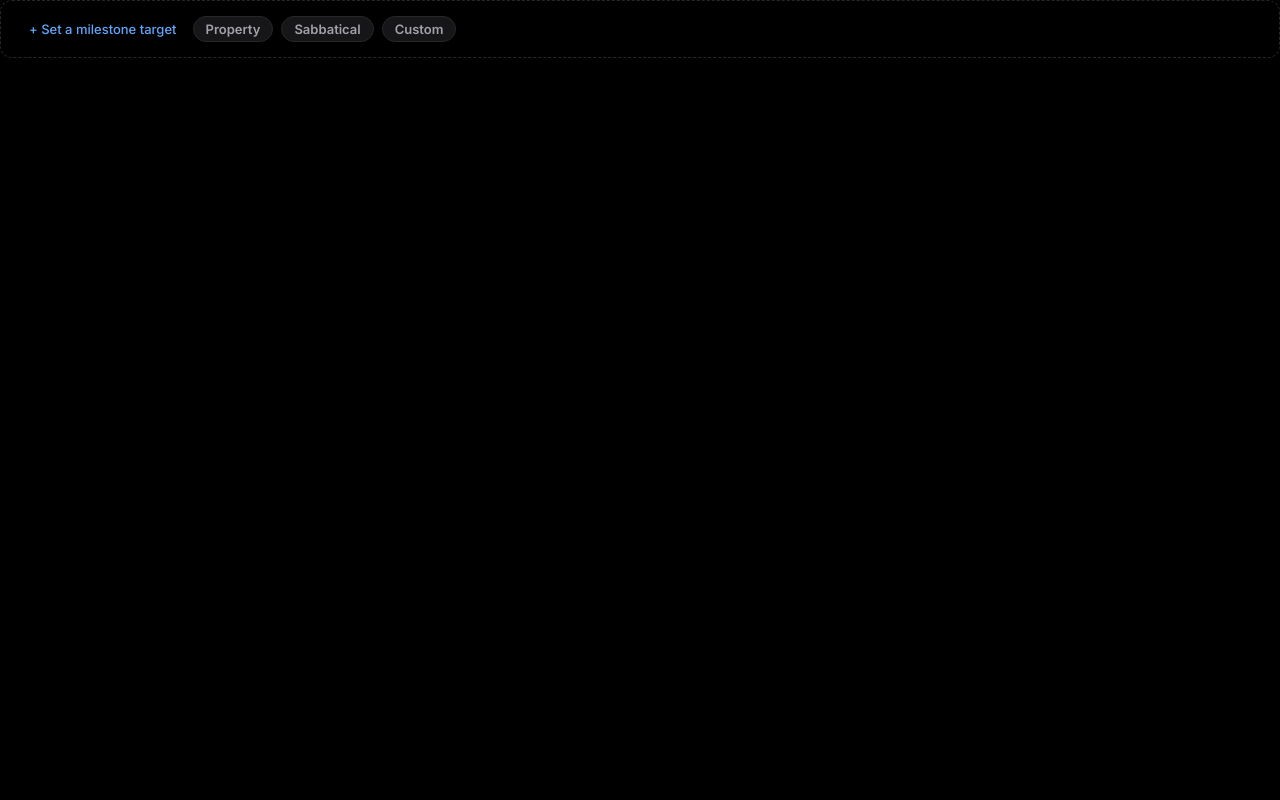
CapitalHorizonCard: no milestone set › shows what is wrong and does not save
The width and height of the screenshot is (1280, 800).
Click the button "Custom": (419, 29) [382,16,456,42]
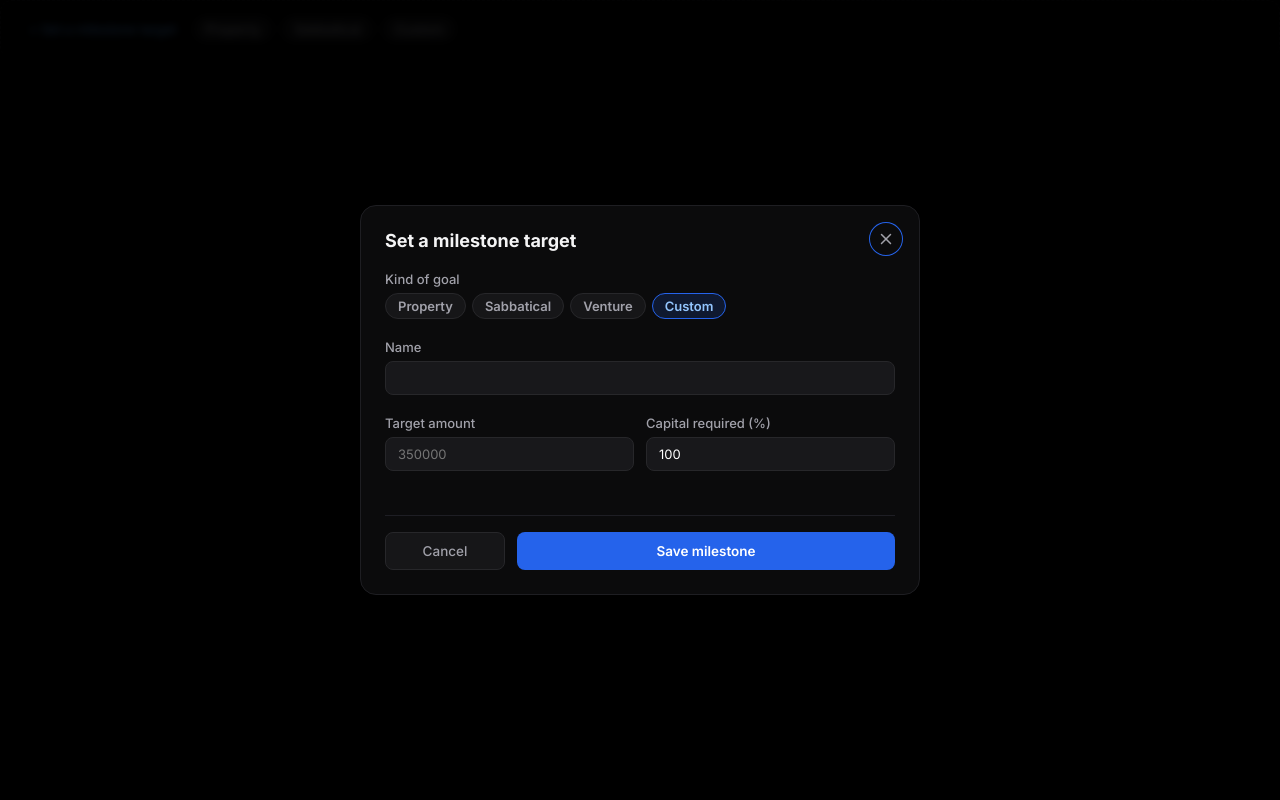
Click the button "Save milestone": (706, 551) [517,532,895,570]
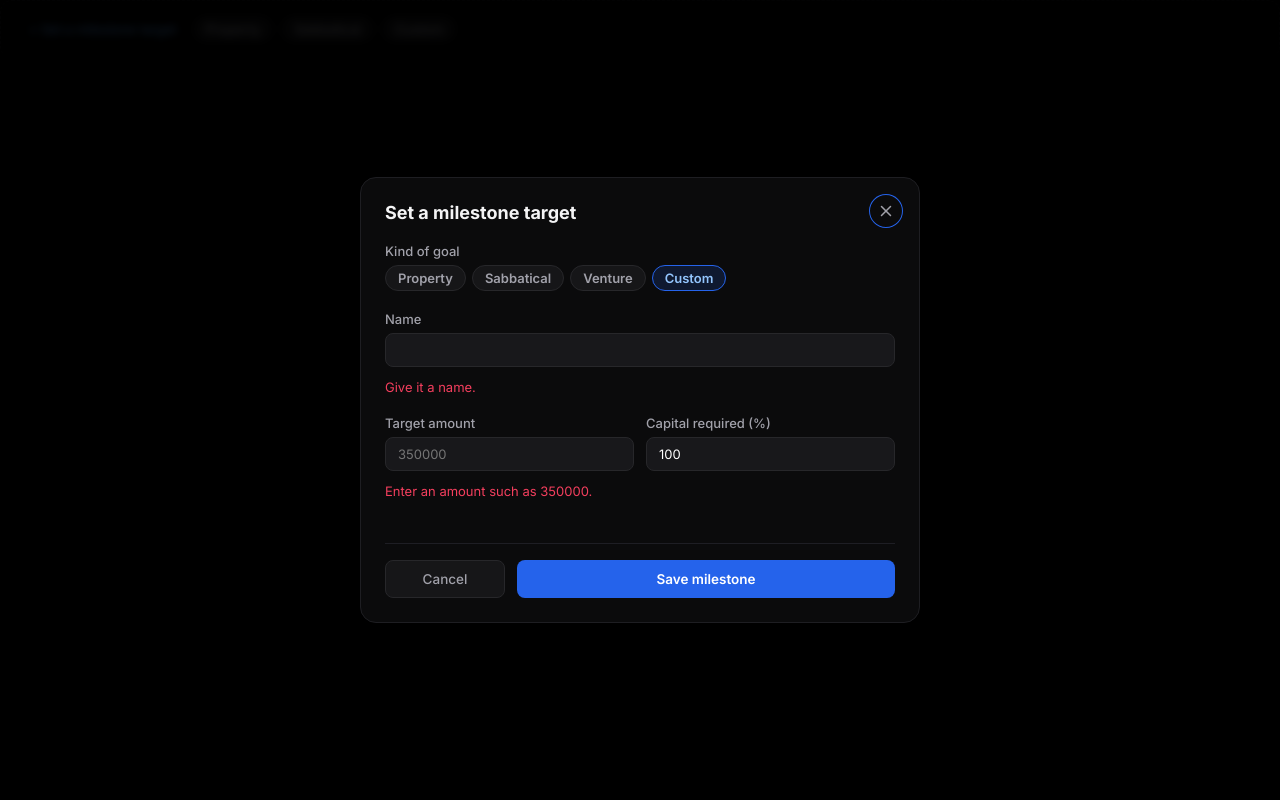
Expected: the text "Give it a name." is shown, [385,379,476,395]
Expected: the text "Enter an amount such as 350000." is shown, [385,483,592,499]
